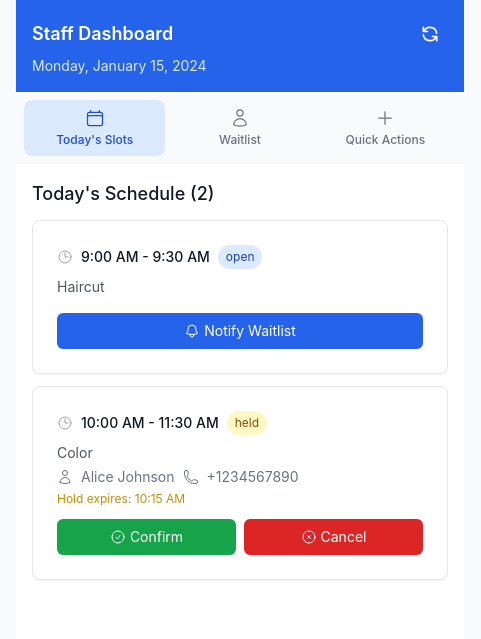
Test: MobileStaffApp › switches between tabs correctly
expect the heading "Today's Schedule (2)" is shown: met, box [32,183,214,204]
Note: Switch to waitlist tab
Click the button "Waitlist".
click(240, 128)  # box [169,100,311,156]
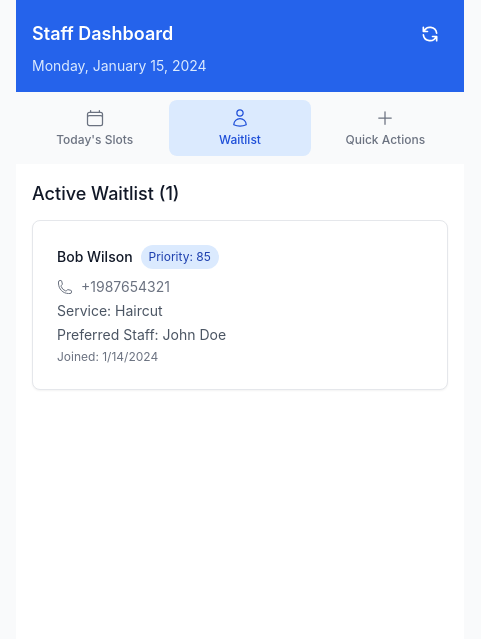
expect the heading "Active Waitlist (1)" is shown: met, box [32,183,180,204]
expect the text "Bob Wilson" is shown: met, box [57,247,133,267]
expect the text "Priority: 85" is shown: met, box [141,245,219,269]
Note: Switch to quick actions tab
Click the button "Quick Actions".
click(385, 128)  # box [315,100,456,156]
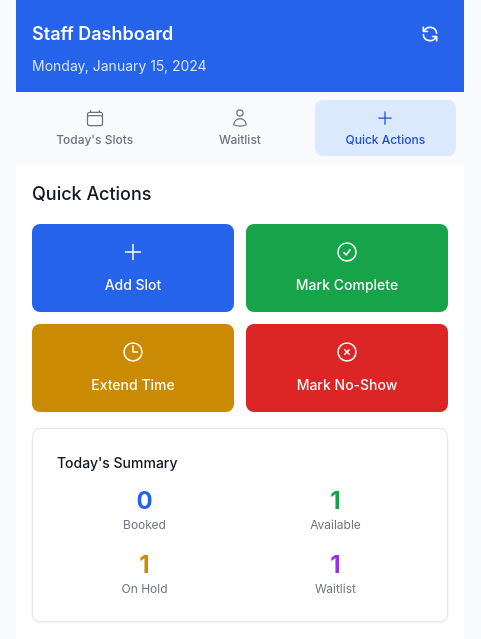
expect the text "Add Slot" is shown: met, box [105,276,161,293]
expect the text "Mark Complete" is shown: met, box [296,276,398,293]
expect the text "Extend Time" is shown: met, box [91,376,175,393]
